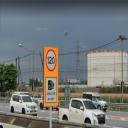speed_limit_120: (44, 47, 58, 71)
